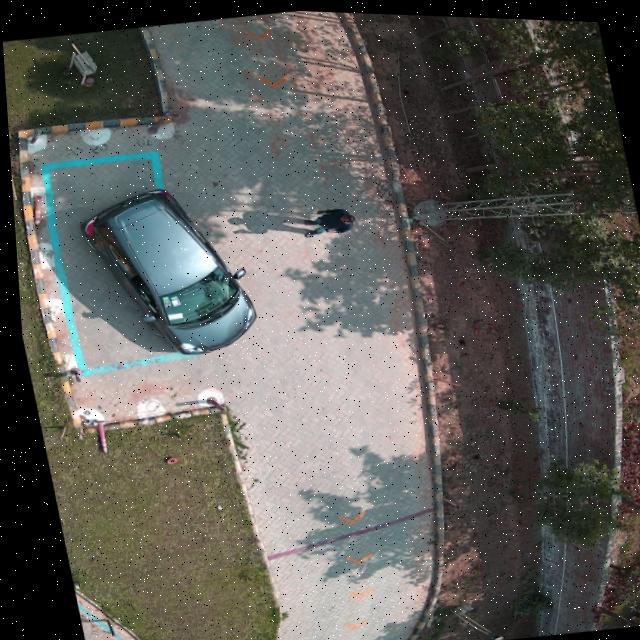car: (78, 185, 255, 354)
